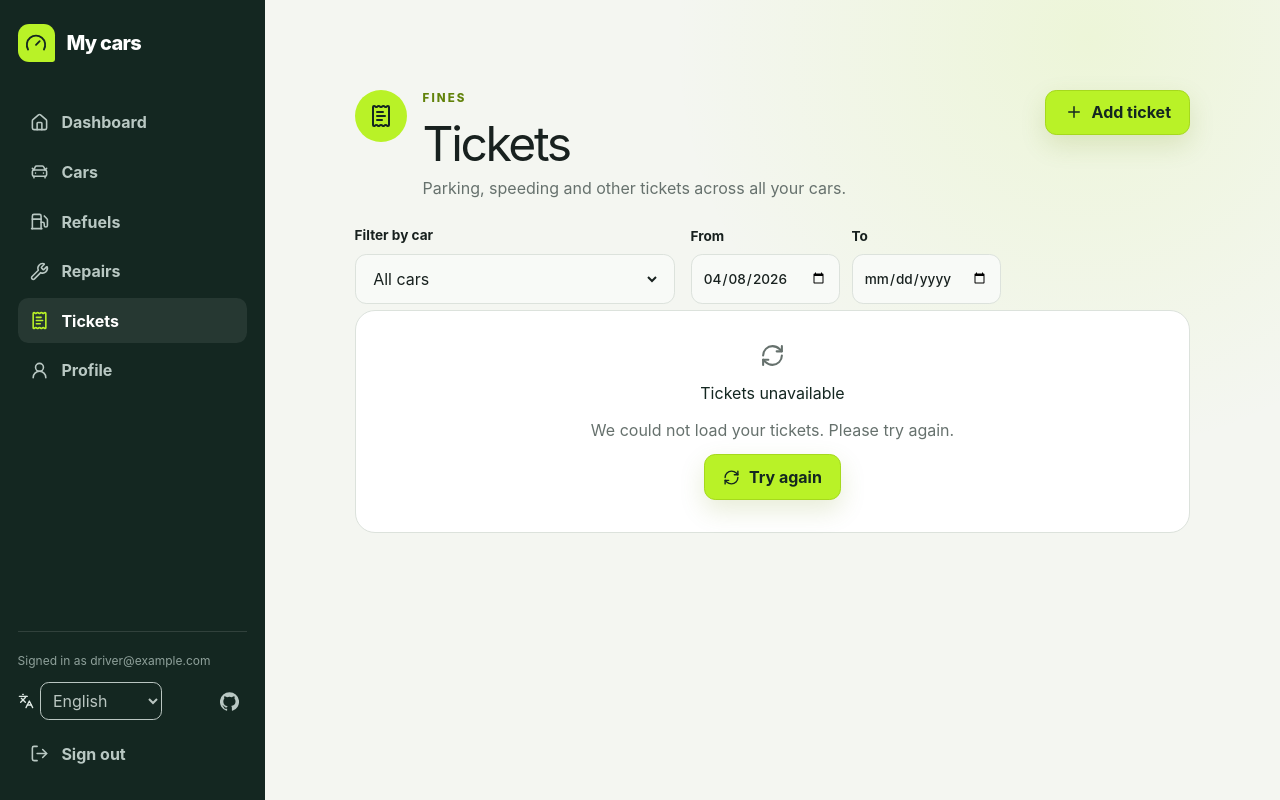
Scenario: tickets list › shows a retryable error when the tickets cannot be loaded
The image size is (1280, 800).
Check: the message shows "Tickets unavailable", box [700,383,845,403]
Click the button "Try again" at (772, 477), box [704,454,841,500]
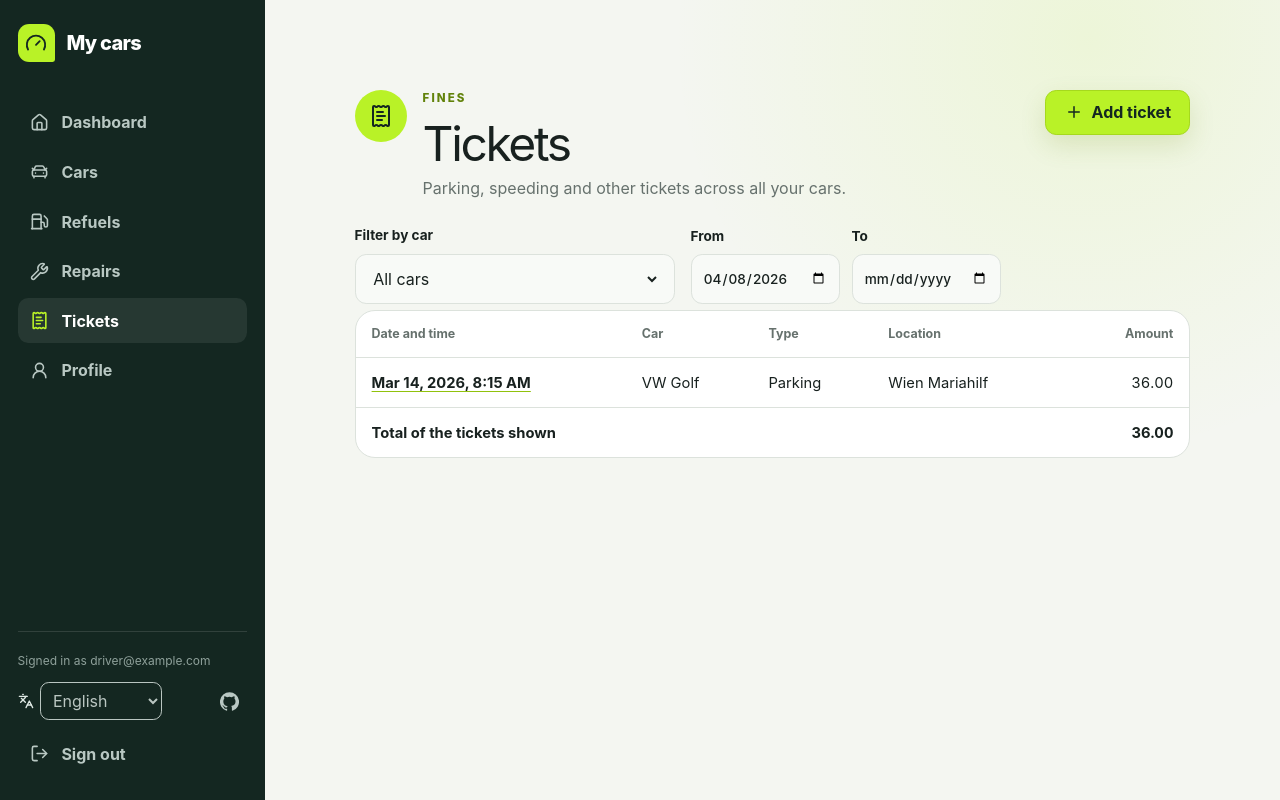
Check: the text "Wien Mariahilf" is shown, box [872,358,1076,408]
